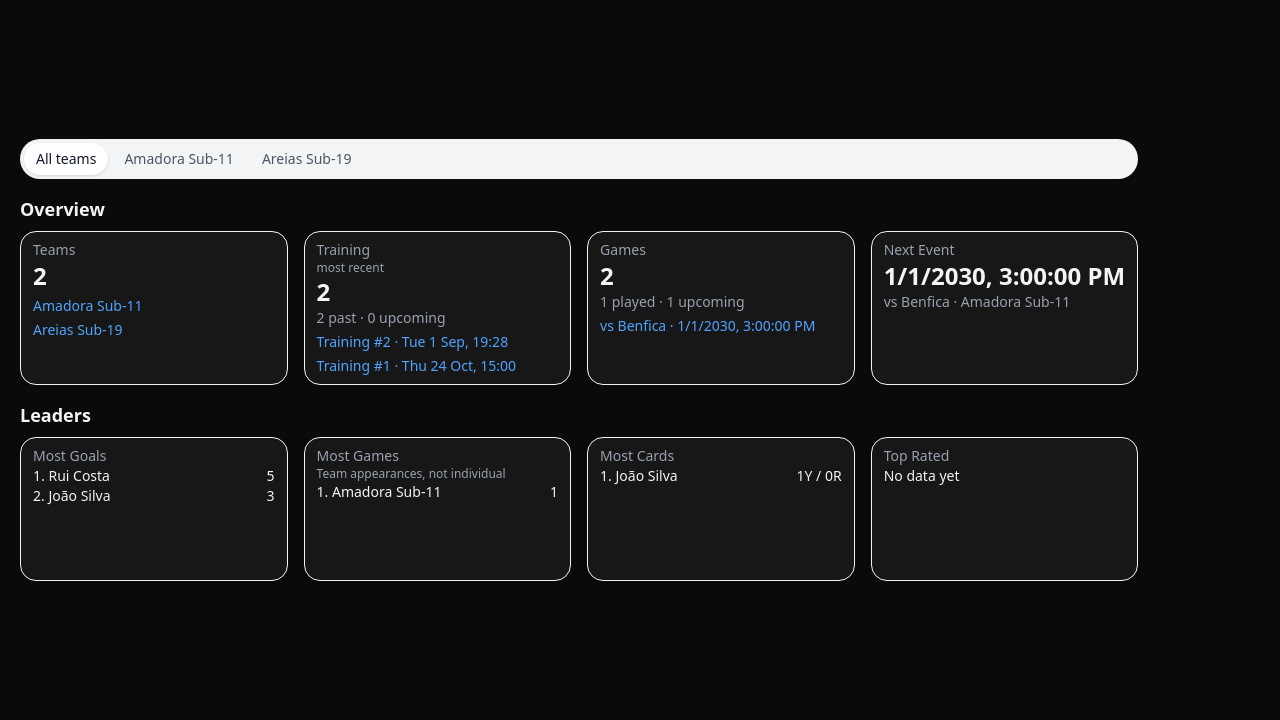
Test: clicking a training row navigates to /trainings?training=<id> with the details popup open (AC DTILE-03.2)
The image size is (1280, 720).
expect the text "Teams" is shown: met, box [33,240,75,259]
What coordinates should you click on to do the following:
click the link "Training #2 · Tue 1 Sep, 19:28"
I would click on:
 (412, 342)
Its box is [316,332,508,351].
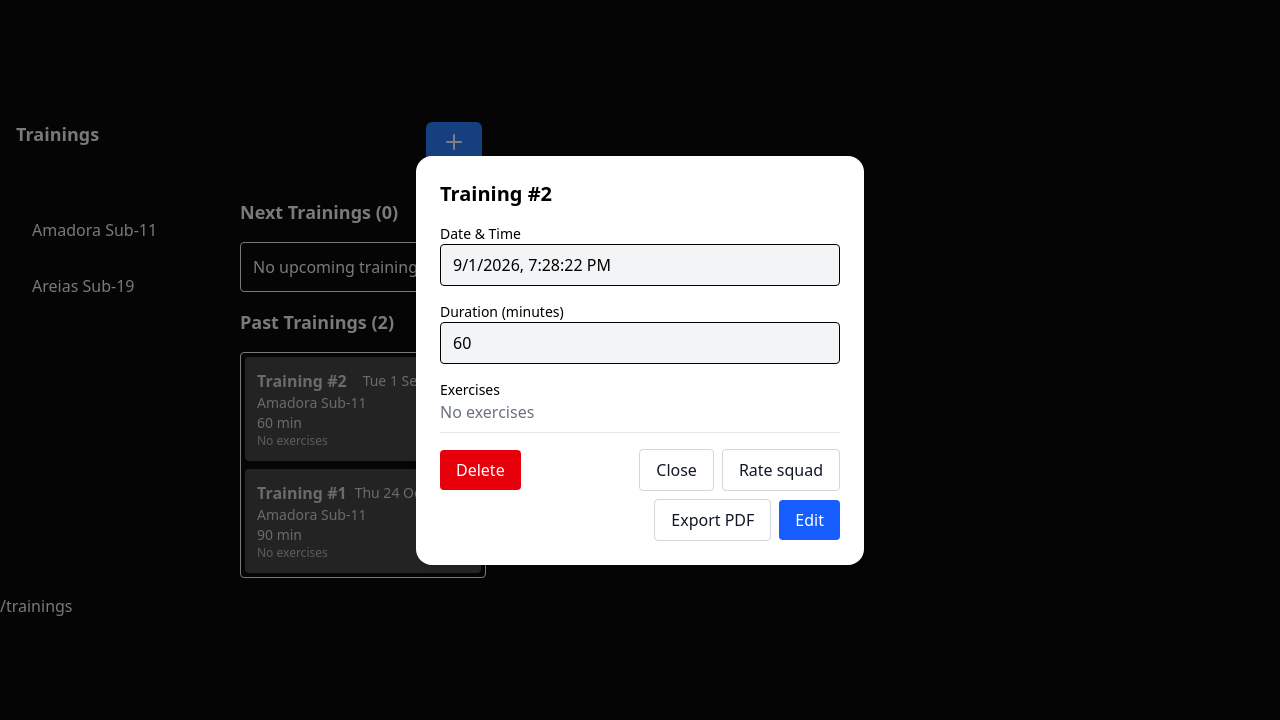
expect the dialog is shown: met, box [416,156,864,564]
expect the text with test id "location" reads "/trainings": met, box [0,595,72,617]
